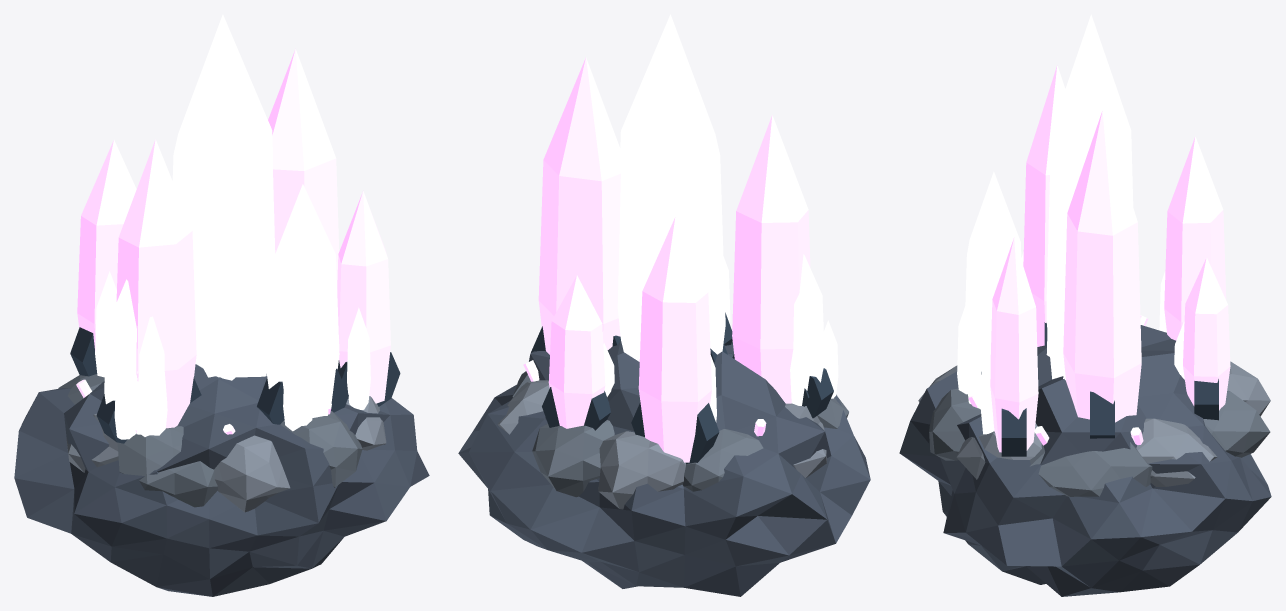
The model's file is ore_Terbium_detail.glb.
3 views of the same model, side by side, from view 1: azimuth 30°, elevation 25°; view 2: azimuth 150°, elevation 25°; view 3: azimuth 270°, elevation 25° (orthographic).
Visible parts, largest first — view 1: root_fractured_asteroid, crystal_main_0, crystal_main_1, crystal_main_3, crystal_main_2, crystal_main_5, crystal_main_4, rock_armor_4, rock_armor_3, facet_spark_1, crystal_main_6, rock_armor_2 (+12 smaller); view 2: root_fractured_asteroid, crystal_main_0, crystal_main_2, crystal_main_1, crystal_main_4, crystal_main_7, rock_armor_7, rock_armor_8, crystal_main_6, rock_armor_6, rock_armor_9, crystal_socket_4 (+5 smaller); view 3: root_fractured_asteroid, crystal_main_2, crystal_main_0, crystal_main_4, crystal_main_5, crystal_main_3, crystal_main_1, crystal_main_7, rock_armor_0, rock_armor_9, rock_armor_8, rock_armor_2 (+7 smaller).
Boxes of the visible parts, x1,y1,x2,y2 form: root_fractured_asteroid: (14,364,429,596); crystal_main_0: (172,14,275,377); crystal_main_1: (116,139,196,428); crystal_main_3: (266,184,339,417); crystal_main_2: (268,49,339,288); crystal_main_5: (337,191,390,403); crystal_main_4: (77,140,136,350); rock_armor_4: (117,425,217,507); rock_armor_3: (214,435,290,512); facet_spark_1: (136,316,167,436); crystal_main_6: (104,279,138,435); rock_armor_2: (280,411,362,487); root_fractured_asteroid: (458,341,870,596); crystal_main_0: (617,14,725,361); crystal_main_2: (538,57,620,354); crystal_main_1: (732,115,810,403); crystal_main_4: (638,217,711,462); crystal_main_7: (548,275,605,428); rock_armor_7: (598,431,685,509); rock_armor_8: (532,420,614,497); crystal_main_6: (790,254,824,405); rock_armor_6: (682,429,763,491); rock_armor_9: (497,380,549,434); crystal_socket_4: (631,402,719,463); root_fractured_asteroid: (899,325,1271,596); crystal_main_2: (1063,110,1141,422); crystal_main_0: (1046,14,1133,379); crystal_main_4: (1164,136,1226,340); crystal_main_5: (990,237,1038,452); crystal_main_3: (964,171,1021,408); crystal_main_1: (1023,65,1065,346); crystal_main_7: (1183,257,1230,410); rock_armor_0: (1029,442,1152,496); rock_armor_9: (1136,418,1217,486); rock_armor_8: (1203,390,1270,457); rock_armor_2: (929,388,980,460).
Bounding box in the file's own units: 1.83 × 2.71 × 1.64.
